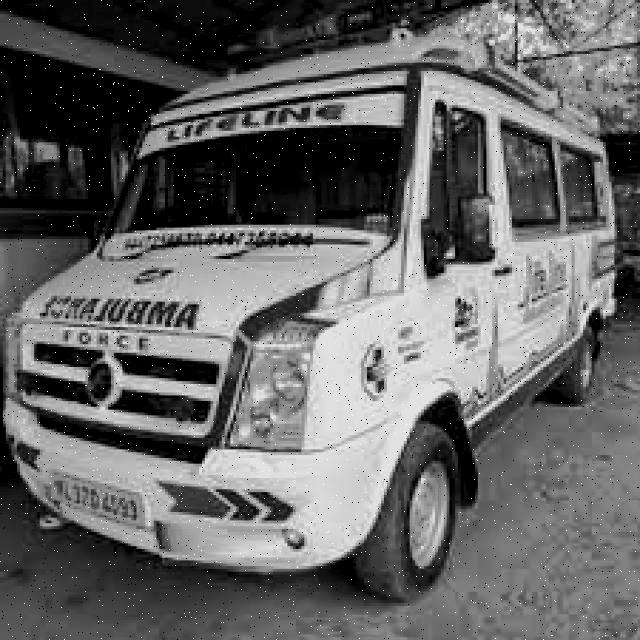LCV: (1, 1, 487, 564)
